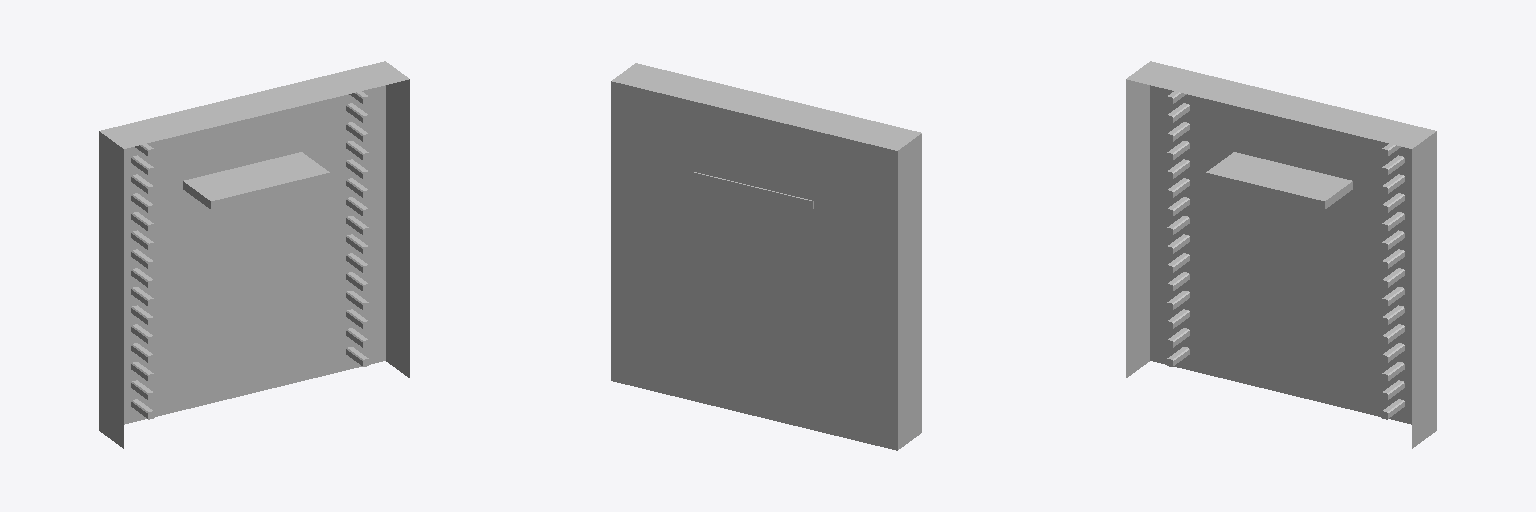
Rendered from shadow_scene__terrain.obj.
3 views of the same model, side by side, from view 1: azimuth 30°, elevation 25°; view 2: azimuth 150°, elevation 25°; view 3: azimuth 330°, elevation 25° (orthographic).
Visible parts, largest first — view 1: floor_Plane_mat_terrain, pillar_Cube.001_mat_architecture, screen_Cube_mat_screen; view 2: floor_Plane_mat_terrain, screen_Cube_mat_screen; view 3: floor_Plane_mat_terrain, pillar_Cube.001_mat_architecture, screen_Cube_mat_screen.
Part boxes in pixels (left/top/right/bottom): floor_Plane_mat_terrain: left=99, top=61, right=409, bottom=448; pillar_Cube.001_mat_architecture: left=131, top=91, right=369, bottom=419; screen_Cube_mat_screen: left=183, top=152, right=329, bottom=209; floor_Plane_mat_terrain: left=611, top=63, right=921, bottom=450; screen_Cube_mat_screen: left=694, top=172, right=813, bottom=209; floor_Plane_mat_terrain: left=1126, top=61, right=1436, bottom=448; pillar_Cube.001_mat_architecture: left=1166, top=91, right=1404, bottom=419; screen_Cube_mat_screen: left=1206, top=152, right=1352, bottom=209.
Bounding box in the file's own units: 20 × 20 × 3.52.